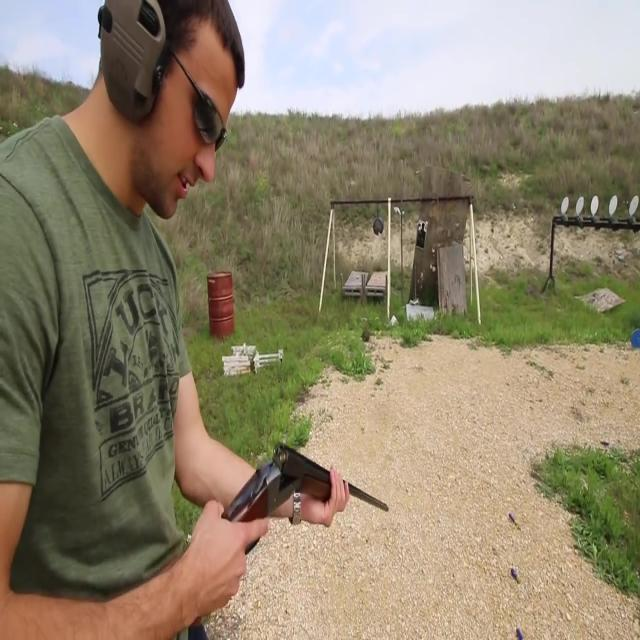Weapon: (176, 400, 420, 596)
